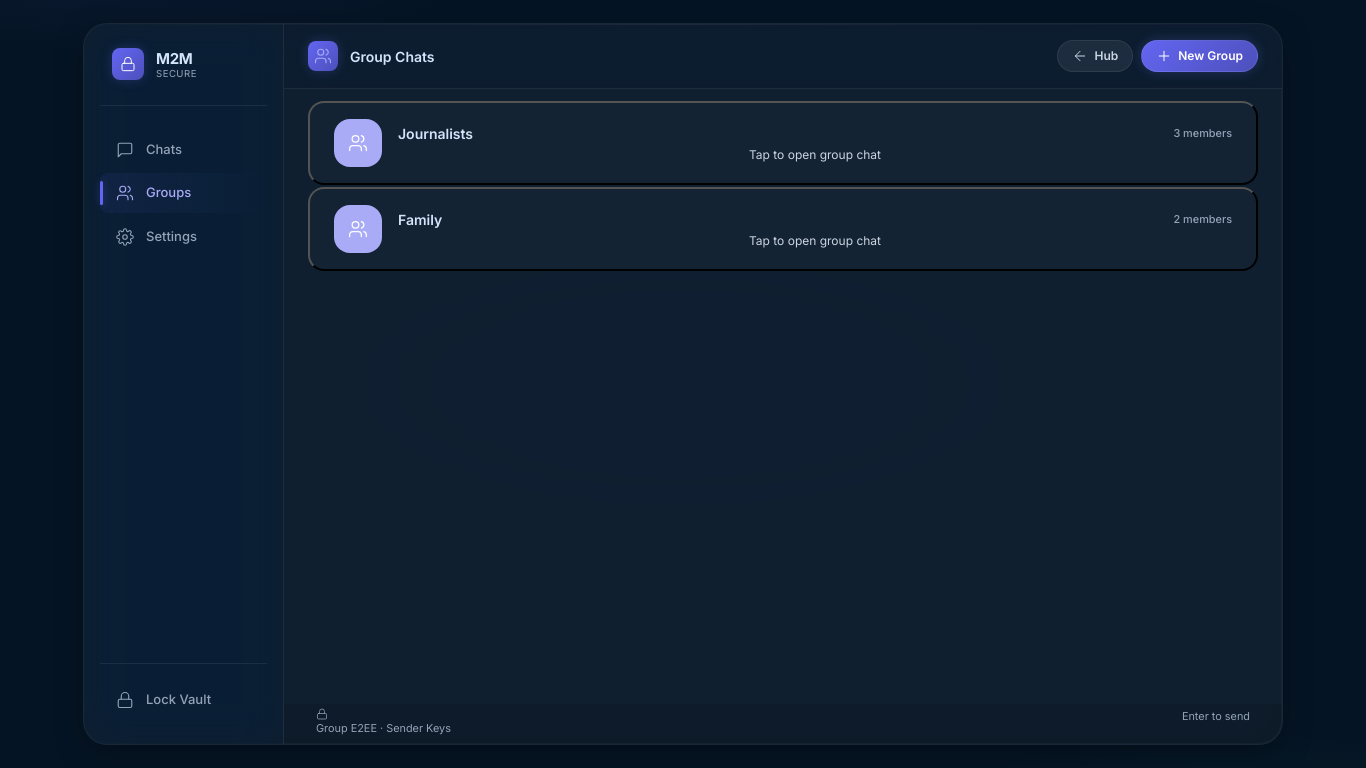
Scenario: GroupChatView — list › shows the open group's name, member count and role
The image size is (1366, 768).
Click the text "Journalists" at [436, 133], box [398,122,473,144]
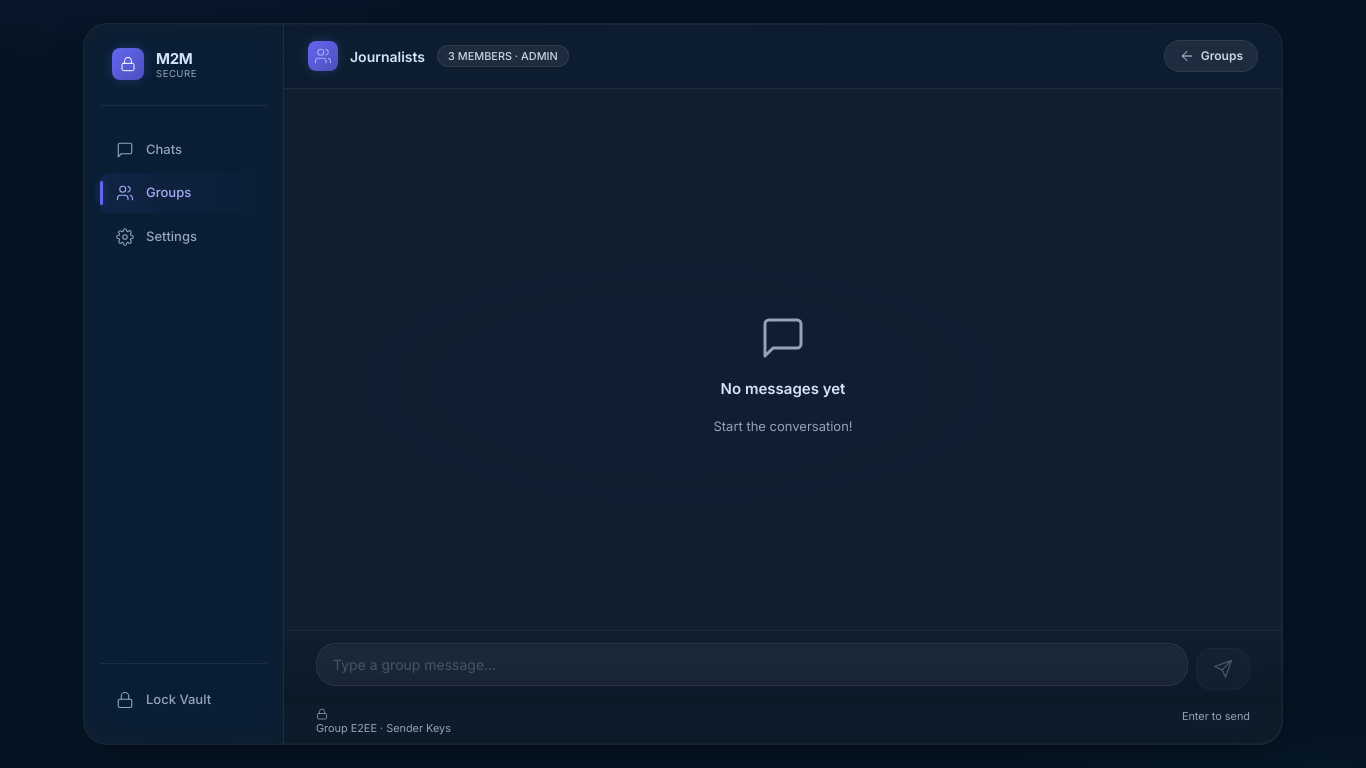
Check: the text "3 members · admin" is shown, box [437,45,569,67]
